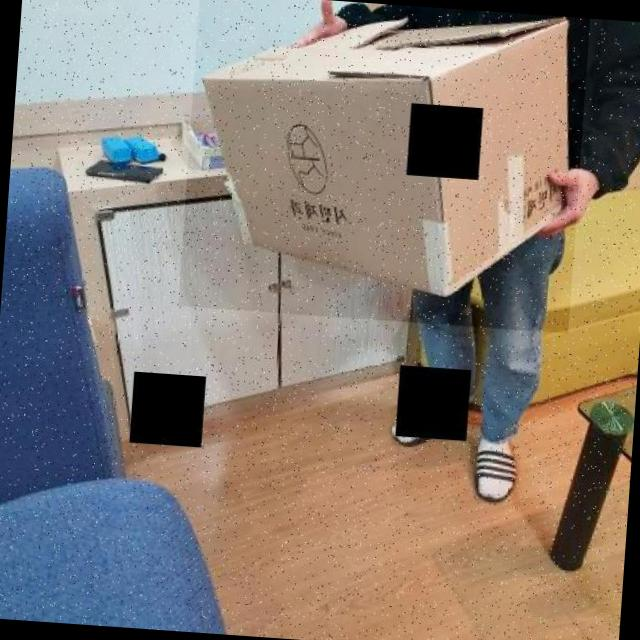box: (177, 0, 589, 333)
